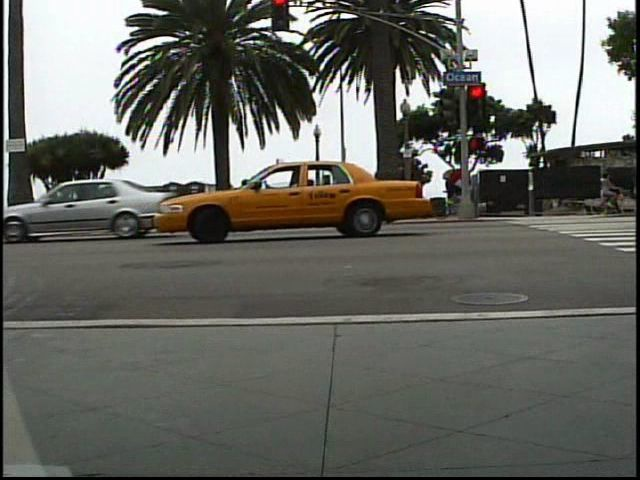person: (437, 157, 472, 215), (591, 166, 622, 215)
